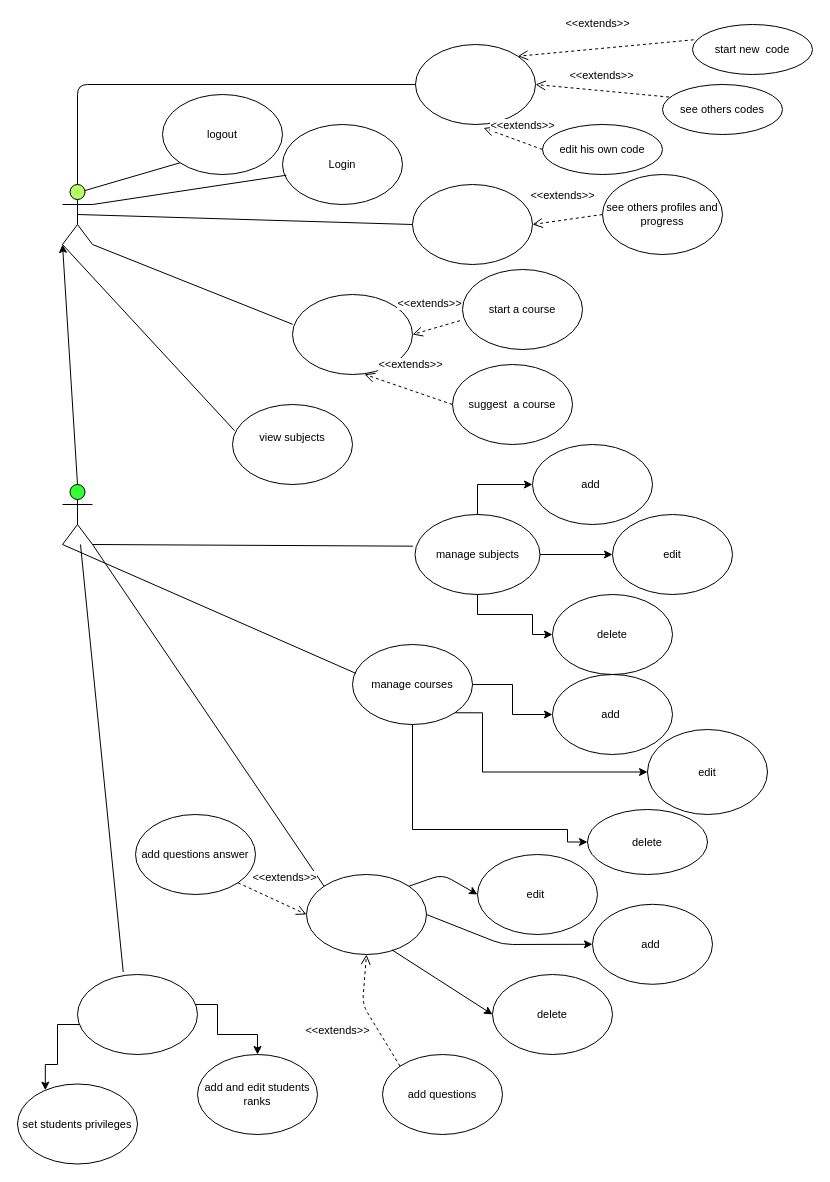
This 830x1182 diagram has some shape labels left out. The shapes that lost their labels are listed below. From the top down, each one's centre as x and y in pixels, then its label:
point (475, 84): view coding ground
point (77, 214): Student
point (472, 224): view leaderboard
point (352, 334): view a course
point (77, 514): Admin
point (366, 914): manage quizzes
point (137, 1014): manage students
